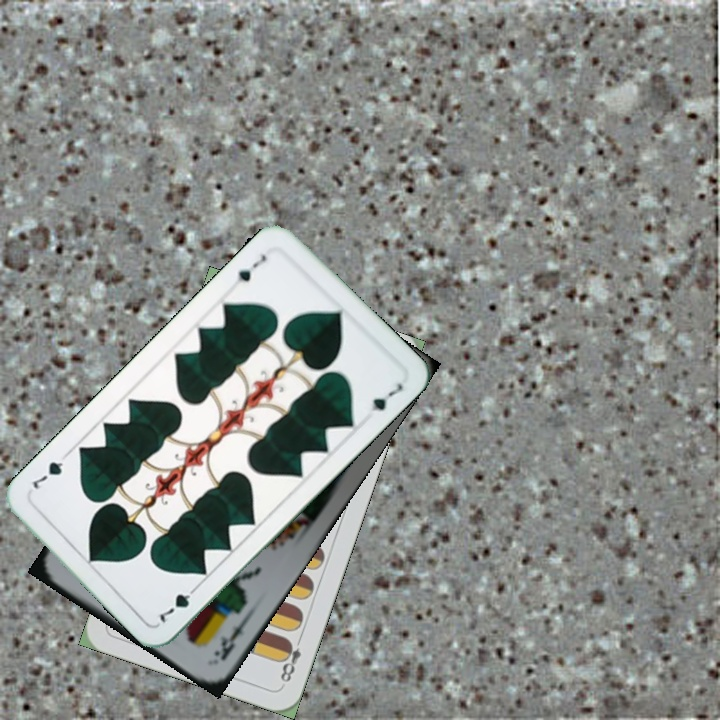E8: (276, 631, 305, 685)
EK: (210, 613, 251, 663)
G7: (153, 581, 202, 626), (228, 250, 269, 289)
